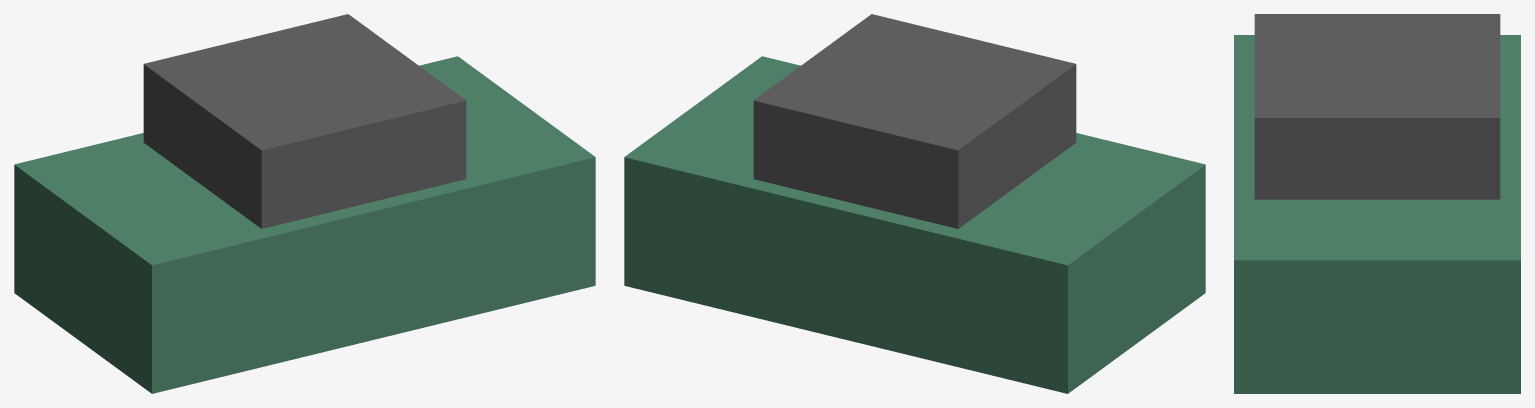
The model's file is ams1117-33.glb.
The picture shows the model from 3 angles, left to right: view 1: azimuth 30°, elevation 25°; view 2: azimuth 150°, elevation 25°; view 3: azimuth 270°, elevation 25°; orthographic projection. The views are drawn at different scales.
Visible parts, largest first — view 1: ams1117-33-pcb, ams1117-33-ic; view 2: ams1117-33-pcb, ams1117-33-ic; view 3: ams1117-33-pcb, ams1117-33-ic.
Boxes of the visible parts, x1,y1,x2,y2 form: ams1117-33-pcb: (14,56,595,393); ams1117-33-ic: (143,14,466,228); ams1117-33-pcb: (624,56,1205,393); ams1117-33-ic: (753,14,1076,228); ams1117-33-pcb: (1234,35,1520,393); ams1117-33-ic: (1254,14,1500,199).
Size of the model in its own units: 0.0065 by 0.0029 by 0.0035.
